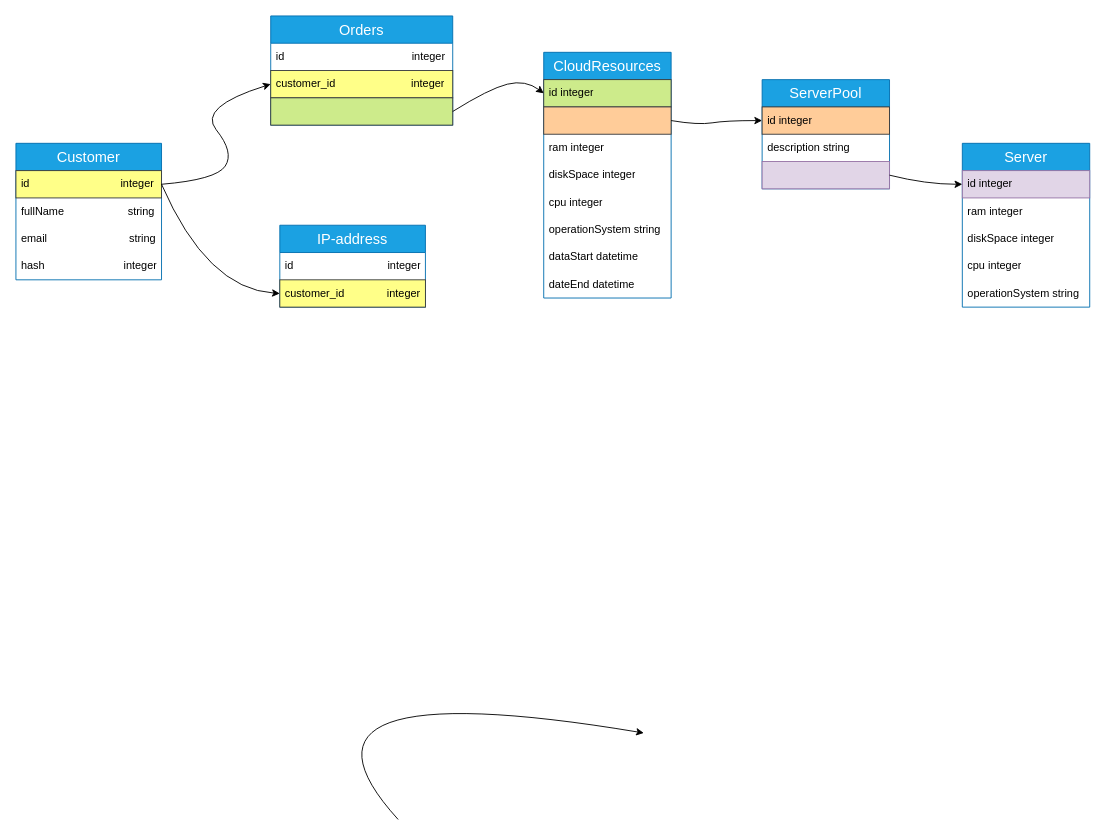
Some shapes in this 1106 by 835 pixel diagram are drawn without their labels. The centre of each missing label's shape, as x and y in pixels:
"cloudResources_id integer" belongs at (x=361, y=111).
"server_id integer" belongs at (x=825, y=175).
"serverPool_id integer" belongs at (x=607, y=120).
